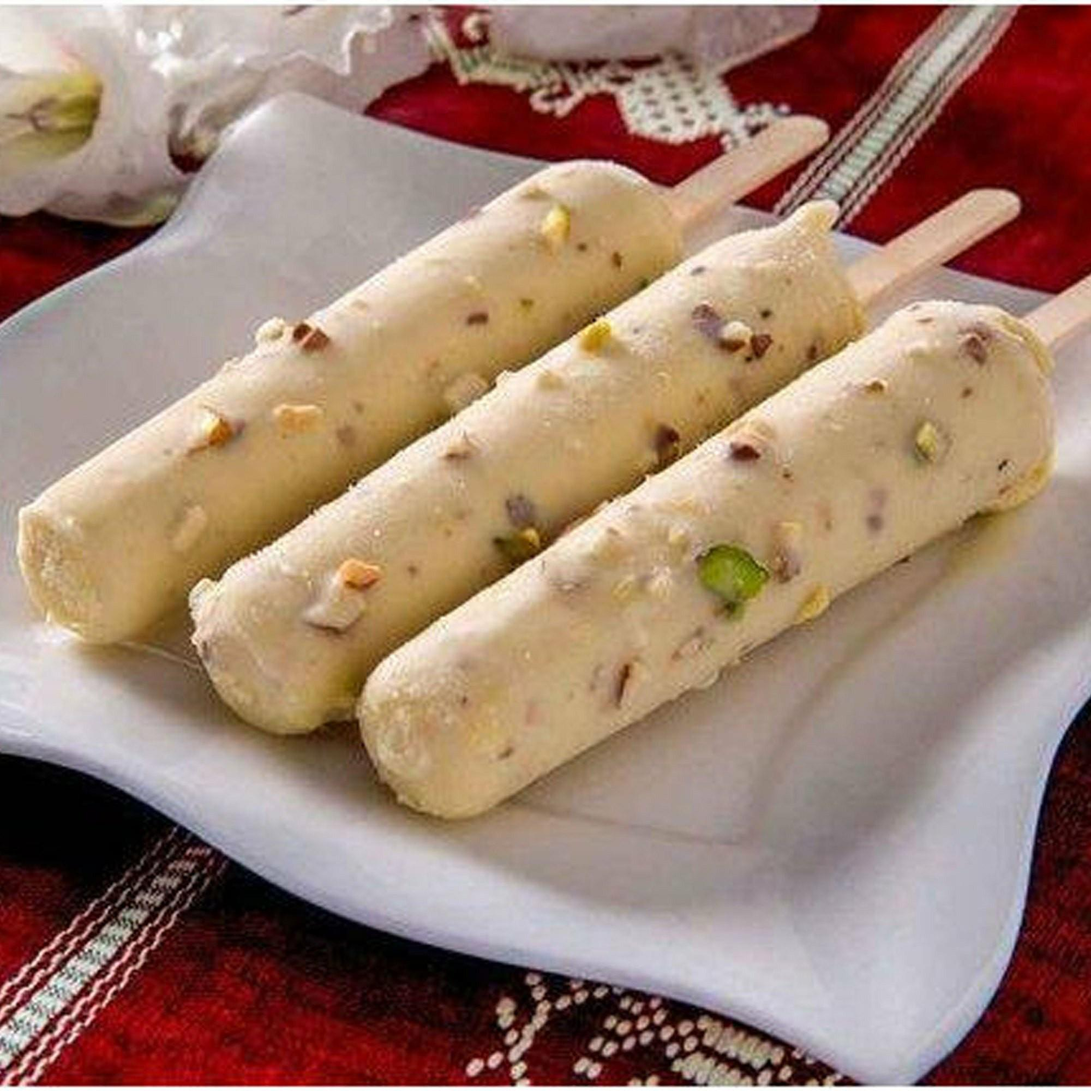Kulfi: (366, 300, 1059, 811), (189, 227, 863, 729), (20, 157, 678, 645)
